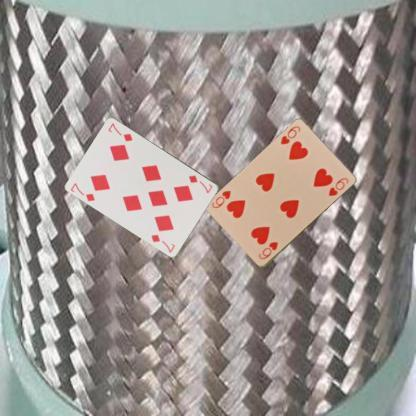6h: (278, 124, 302, 146), (256, 239, 279, 261)
7d: (186, 172, 214, 195), (68, 180, 96, 202)
